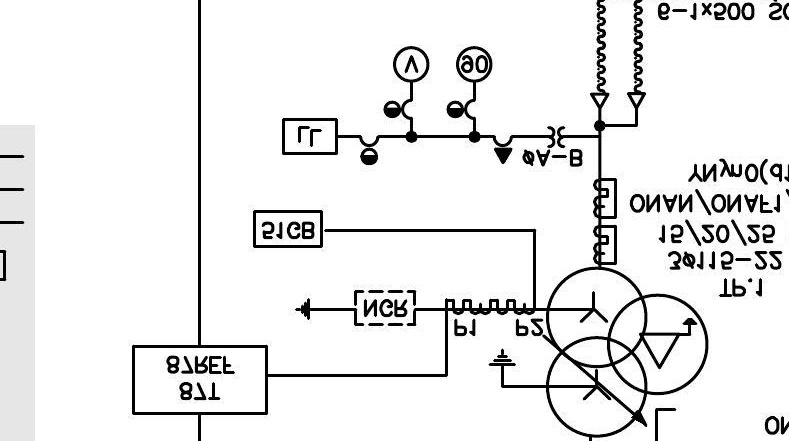11522_tx_ynyn0d1: (545, 265, 710, 439)
LL: (281, 118, 339, 156)
NGR_future: (295, 289, 417, 327)
terminator_double: (589, 92, 647, 128)
v_m: (392, 45, 430, 84)
